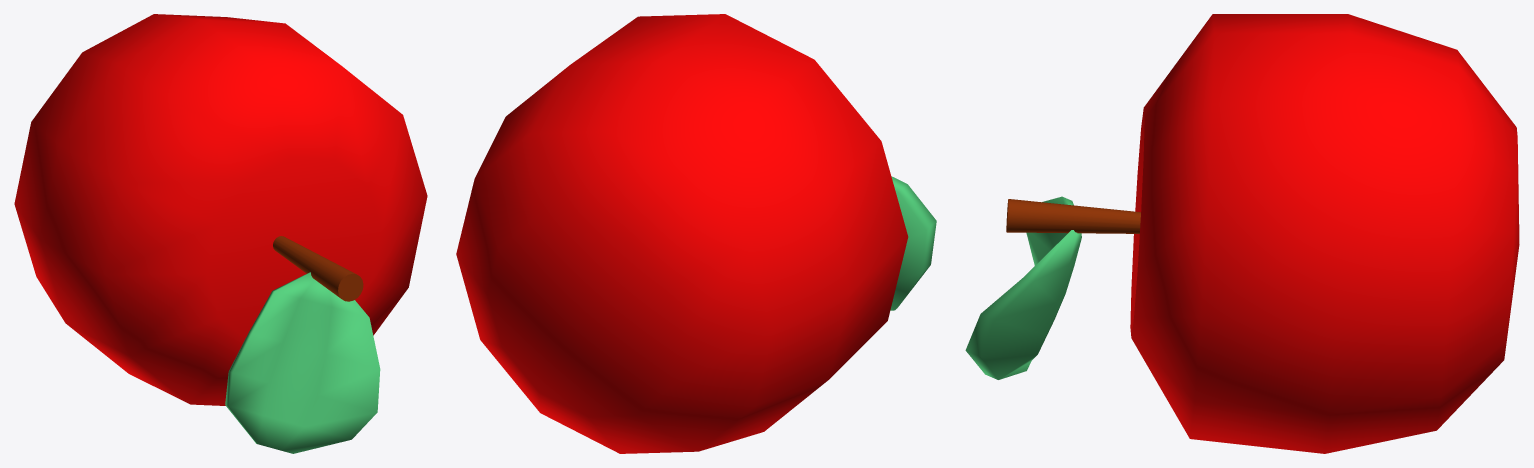
The model's file is AppleBullet.FBX.
The picture shows the model from 3 angles, left to right: view 1: azimuth 30°, elevation 25°; view 2: azimuth 150°, elevation 25°; view 3: azimuth 270°, elevation 25°; orthographic projection. The views are drawn at different scales.
Parts seen in each view (by area): view 1: apple; view 2: apple; view 3: apple.
Boxes of the visible parts, x1=… form: apple: x1=14, y1=14, x2=427, y2=453; apple: x1=456, y1=14, x2=936, y2=453; apple: x1=965, y1=14, x2=1519, y2=453.
Bounding box in the file's own units: 118 × 118 × 148.
